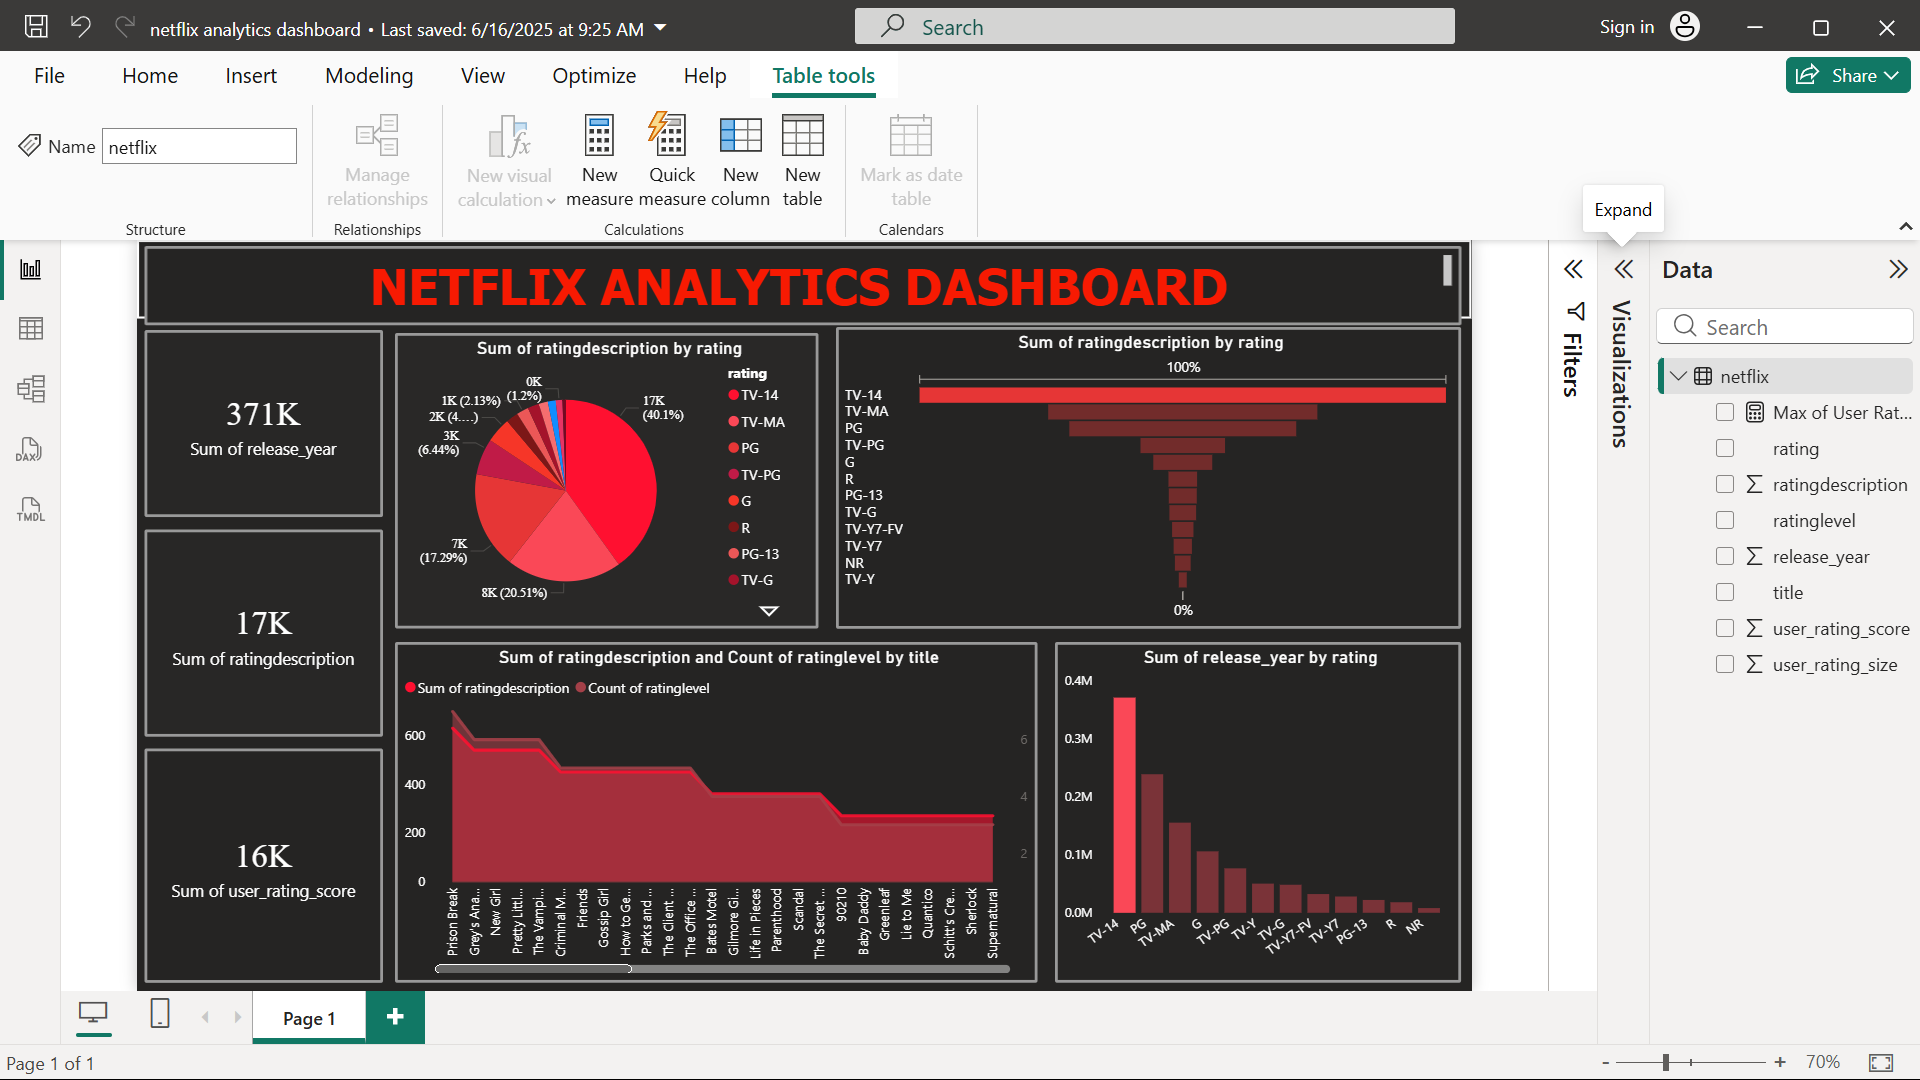

The page's visual inventory and layout, read from the dashboard file:
{"tool":"powerbi","page":{"name":"Page 1","canvas":[1280,720],"ordinal":0},"visuals":[{"type":"textbox","box":[0,0,1279.4,75.6],"z":0},{"type":"funnel","fields":{"Category":["netflix.rating"],"Y":["Sum(netflix.ratingdescription)"]},"box":[670.9,83.2,599.1,289.1],"z":1000},{"type":"card","fields":{"Values":["Sum(netflix.user_rating_score)"]},"box":[7.6,487.6,228.7,224.9],"z":2000},{"type":"textbox","box":[7.2,5.8,1262.7,76.2],"z":3000},{"type":"columnChart","fields":{"Y":["Sum(netflix.release_year)"],"Category":["netflix.rating"]},"box":[880.6,385.5,389.3,326.9],"z":4000},{"type":"card","fields":{"Values":["Sum(netflix.ratingdescription)"]},"box":[7.6,277.8,228.7,198.4],"z":5000},{"type":"pieChart","fields":{"Category":["netflix.rating"],"Y":["Sum(netflix.ratingdescription)"]},"box":[247.6,88.8,406.3,283.5],"z":6000},{"type":"card","fields":{"Values":["Sum(netflix.release_year)"]},"box":[7.6,86.9,228.7,179.5],"z":7000},{"type":"areaChart","fields":{"Category":["netflix.title"],"Y":["Sum(netflix.ratingdescription)"],"Y2":["CountNonNull(netflix.ratinglevel)"]},"box":[247.6,385.5,616.1,326.9],"z":8000}]}

Visuals, with their boxes on the page's 1280x720 design canvas (x1, y1, x2, y2). These are canvas units, not pixel positions in the 1920x1080 screenshot, which may show the page scaled, cropped or inside an application window:
textbox: 0:0:1279:76
funnel - netflix.rating x Sum(netflix.ratingdescription): 671:83:1270:372
card - Sum(netflix.user_rating_score): 8:488:236:712
textbox: 7:6:1270:82
columnChart - Sum(netflix.release_year) x netflix.rating: 881:386:1270:712
card - Sum(netflix.ratingdescription): 8:278:236:476
pieChart - netflix.rating x Sum(netflix.ratingdescription): 248:89:654:372
card - Sum(netflix.release_year): 8:87:236:266
areaChart - netflix.title x Sum(netflix.ratingdescription): 248:386:864:712
